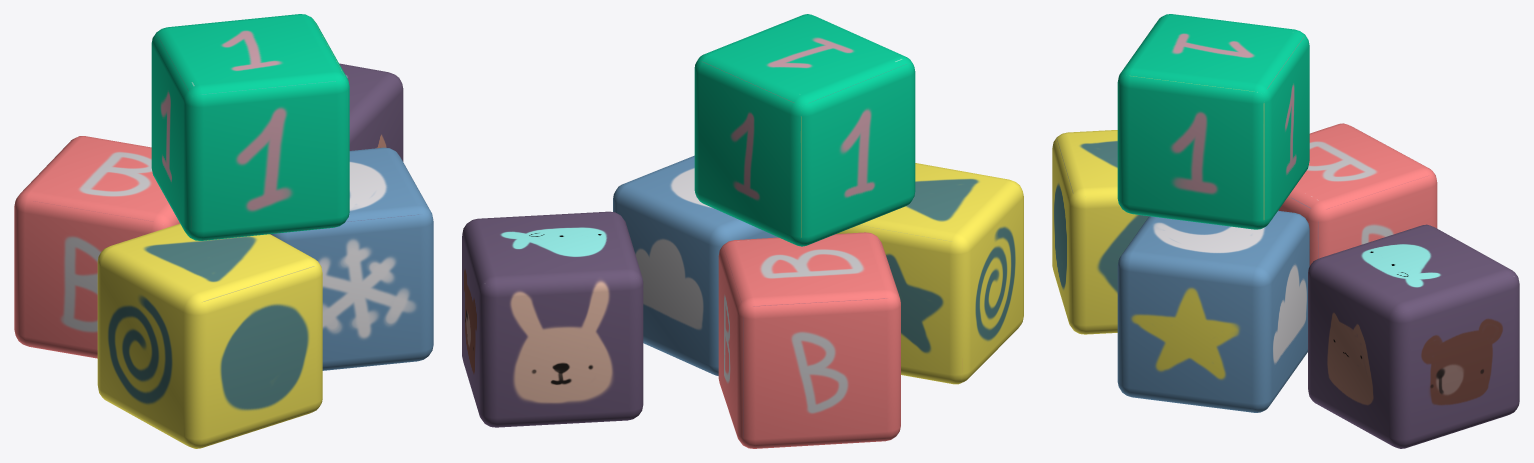
The model's file is Bauklötze.fbx.
3 views of the same model, side by side, from view 1: azimuth 30°, elevation 25°; view 2: azimuth 150°, elevation 25°; view 3: azimuth 270°, elevation 25° (orthographic). The views are drawn at different scales.
Visible parts, largest first — view 1: Roundcube.001, Roundcube.003, Roundcube.002, Roundcube, Roundcube.004; view 2: Roundcube.003, Roundcube.004, Roundcube.002, Roundcube.001, Roundcube; view 3: Roundcube.004, Roundcube.003, Roundcube, Roundcube.002, Roundcube.001.
Boxes of the visible parts, box(x1,y1,x2,y2) form: Roundcube.001: box(97, 224, 322, 448); Roundcube.003: box(151, 14, 349, 240); Roundcube.002: box(14, 136, 179, 358); Roundcube: box(270, 147, 433, 370); Roundcube.004: box(339, 63, 403, 161); Roundcube.003: box(694, 14, 915, 246); Roundcube.004: box(462, 211, 643, 427); Roundcube.002: box(718, 232, 900, 448); Roundcube.001: box(837, 163, 1023, 384); Roundcube: box(613, 155, 778, 375); Roundcube.004: box(1308, 224, 1519, 448); Roundcube.003: box(1117, 14, 1309, 229); Roundcube: box(1117, 210, 1309, 412); Roundcube.002: box(1278, 123, 1437, 265); Roundcube.001: box(1052, 130, 1148, 334).
Size of the model in its own units: 563 by 399 by 583.
Materials: 1 (1 with a texture image).
